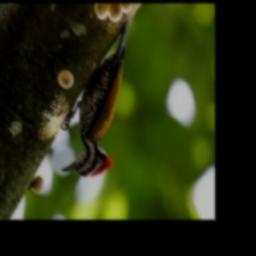Woodpecker: (61, 19, 132, 177)
